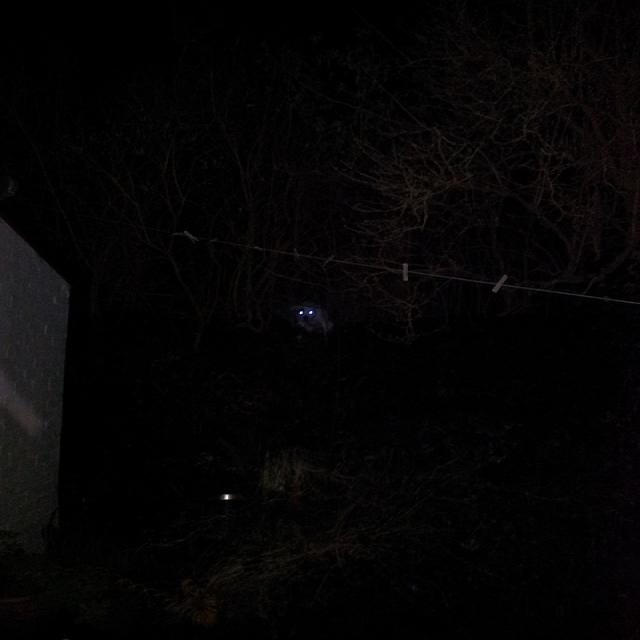Dog: (230, 293, 434, 465)
